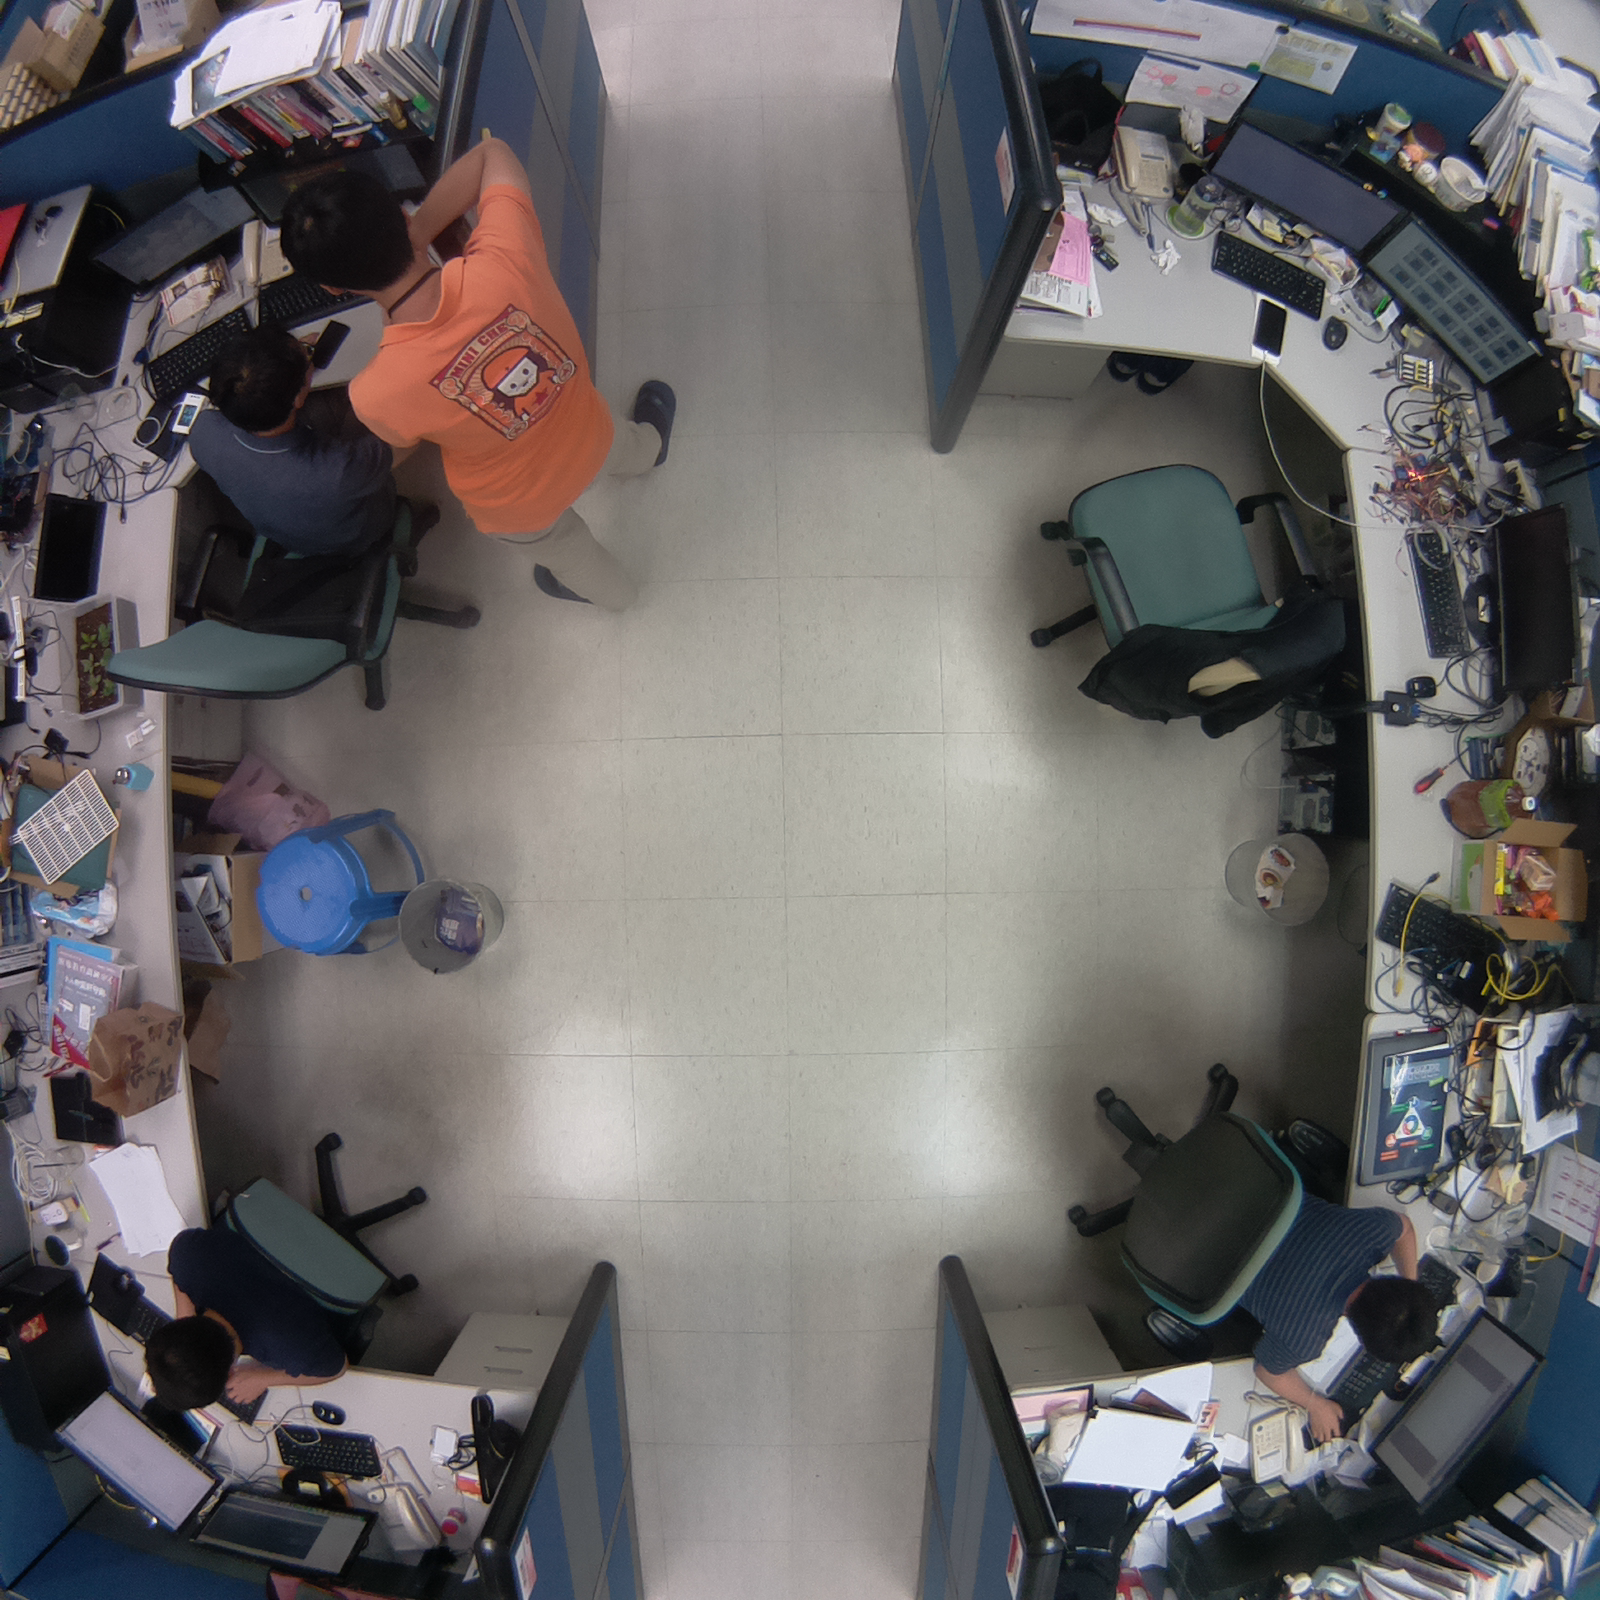chair: (1004, 432, 1353, 750)
head: (270, 165, 420, 299), (199, 322, 320, 432), (1347, 1259, 1445, 1372), (141, 1313, 241, 1411)
sitting: (86, 317, 494, 717), (1053, 1055, 1451, 1449), (128, 1114, 463, 1421)
standing: (282, 132, 684, 620)
